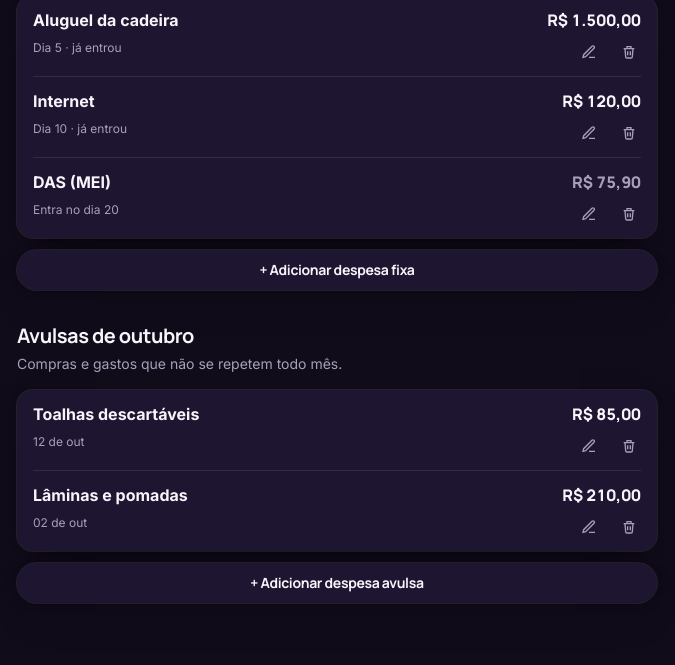
Test: ExpensesView › shows the errors and saves nothing when the form is invalid
The image size is (675, 665).
(page scrolled)
Expected: the text "Aluguel da cadeira" is shown, [33,10,178,30]
Click the button "+ Adicionar despesa avulsa".
click(337, 583)  # box [17,563,657,603]
(page scrolled)
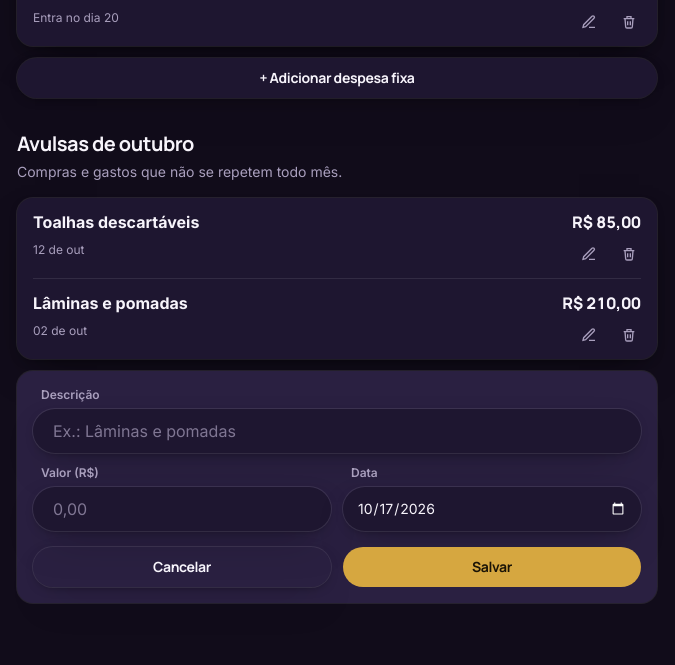
Type "0" into the field labelled "Valor (R$)".
click(182, 509); type("0")  # box [33,487,331,531]
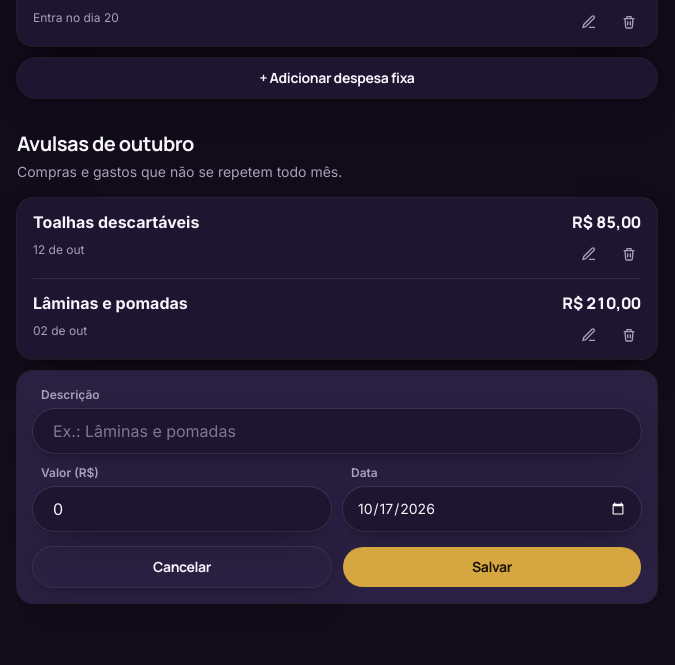
Type "2026-10-30" into the date field labelled "Data".
click(492, 509); type("2026-10-30")  # box [343,487,641,531]
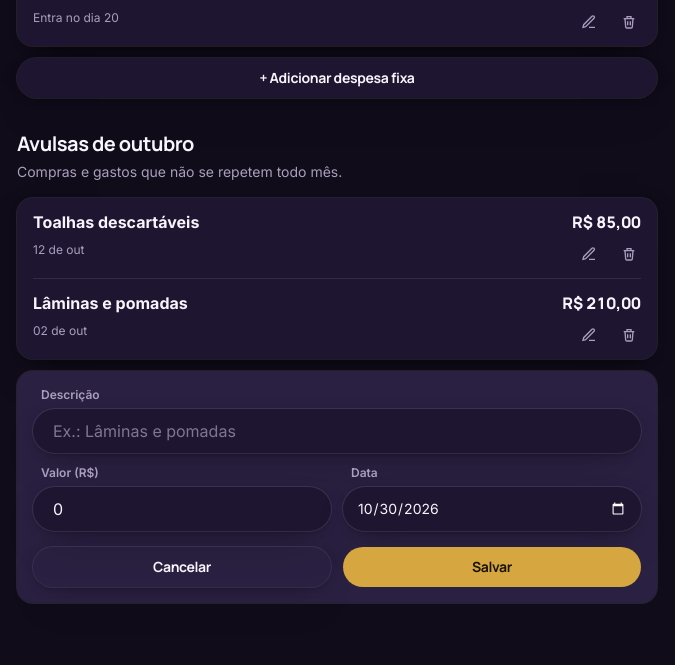
Click the button "Salvar".
click(492, 567)  # box [343,547,641,587]
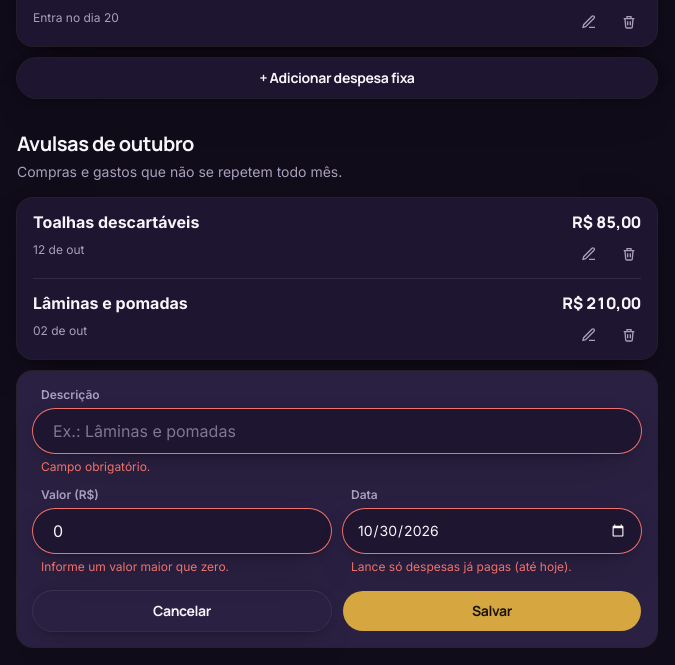
Now the text "Campo obrigatório." is shown, box [41,459,150,474]
Now the text "Informe um valor maior que zero." is shown, box [41,559,229,574]
Now the text "Lance só despesas já pagas (até hoje)." is shown, box [351,559,572,574]
